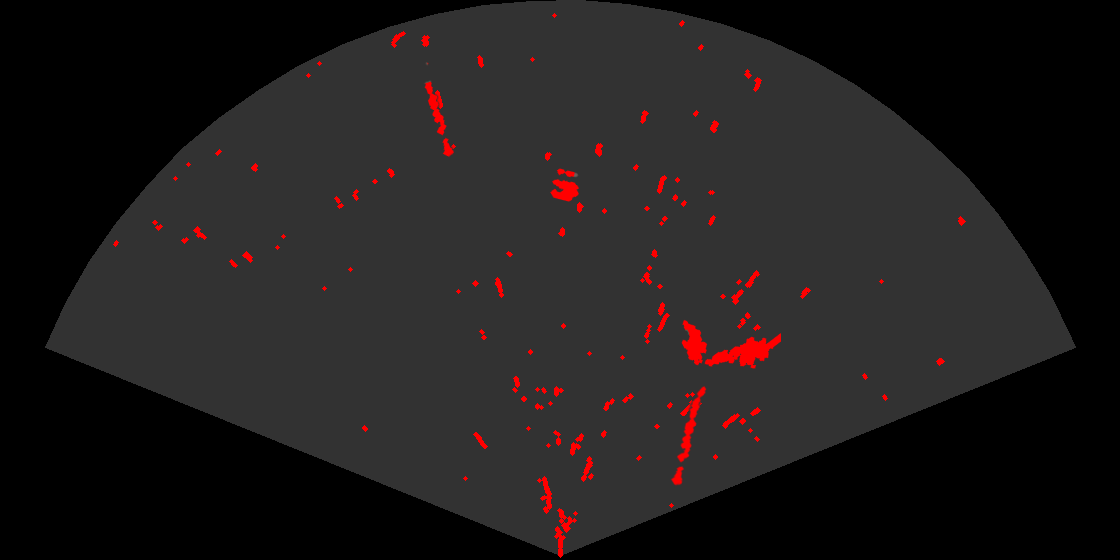AUV: (680, 318, 709, 367)
ball: (549, 167, 581, 203)
chain: (669, 385, 708, 488), (423, 61, 455, 159)
frogman: (703, 332, 781, 370)
